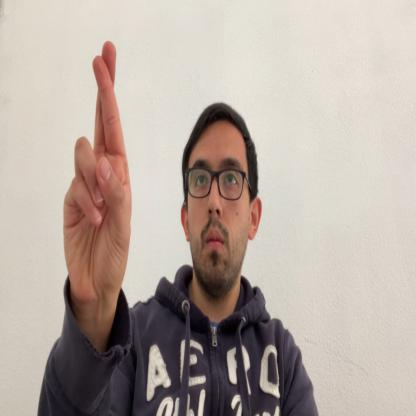R: (62, 40, 133, 296)
